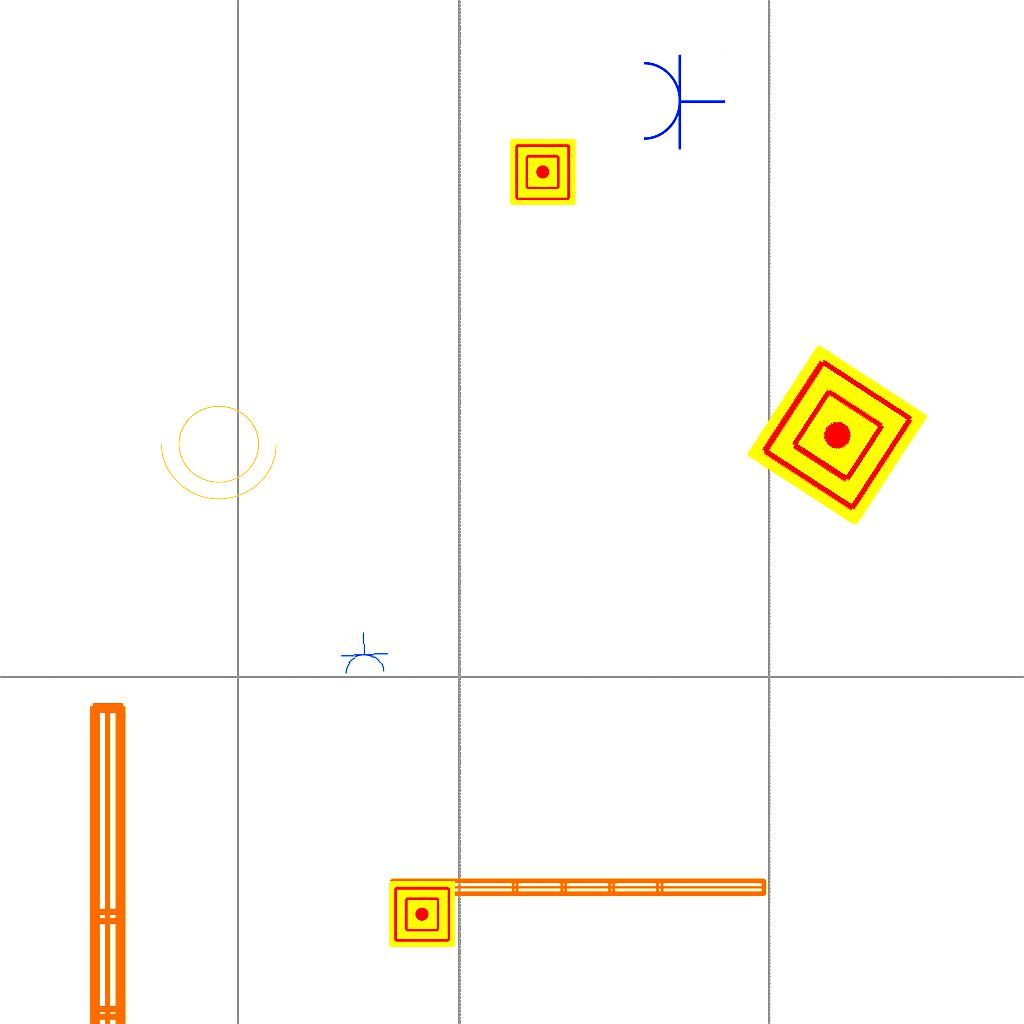Ambulanz_Pendelleuchte_LED: (77, 692, 189, 1024), (385, 872, 772, 928)
NAM-Nichtautomatischer_Melder: (745, 343, 929, 527), (510, 139, 576, 205), (389, 881, 455, 947)
Scheinwerfer_fuer_Alarmbeleuchtung: (156, 393, 288, 505)
Schukosteckdose_einfach: (639, 51, 726, 151), (337, 630, 391, 677)
